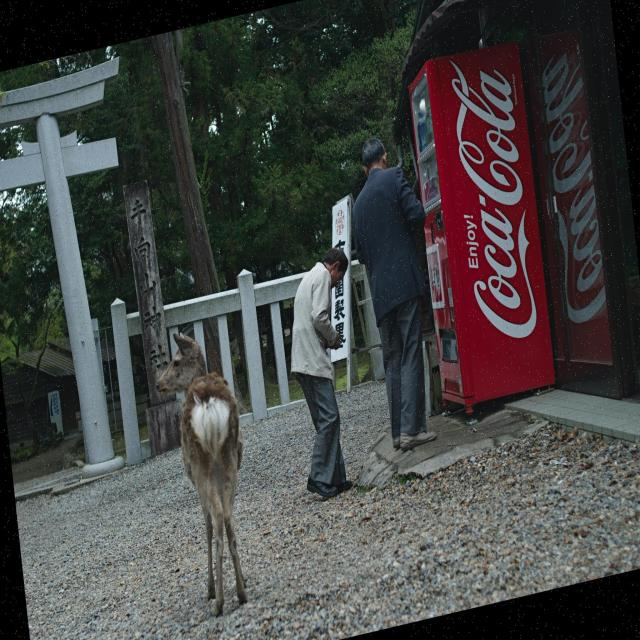coca-cola: (445, 40, 546, 355)
